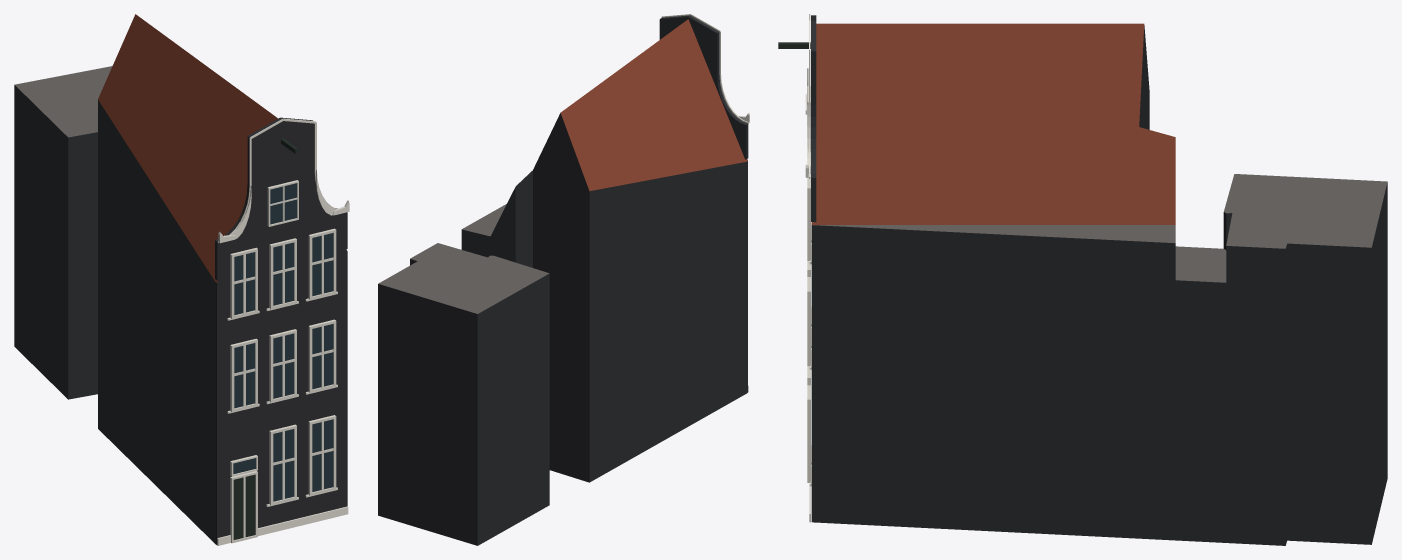
3 renders of one model, left to right at view 1: azimuth 30°, elevation 25°; view 2: azimuth 150°, elevation 25°; view 3: azimuth 270°, elevation 25°, orthographic. The views are drawn at different scales.
Visible parts, largest first — view 1: spec-0363100012176014; view 2: spec-0363100012176014; view 3: spec-0363100012176014.
Part boxes in pixels (x1,y1,x2,y2): spec-0363100012176014: (14, 14, 349, 545); spec-0363100012176014: (378, 14, 749, 545); spec-0363100012176014: (778, 14, 1387, 545).
Bounding box in the file's own units: 7.53 × 17.06 × 20.21.
